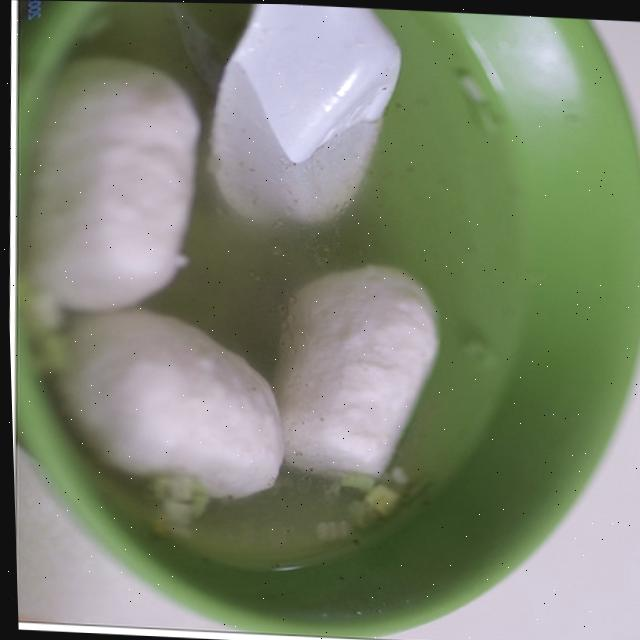熟制海鲜: (33, 16, 508, 548)
